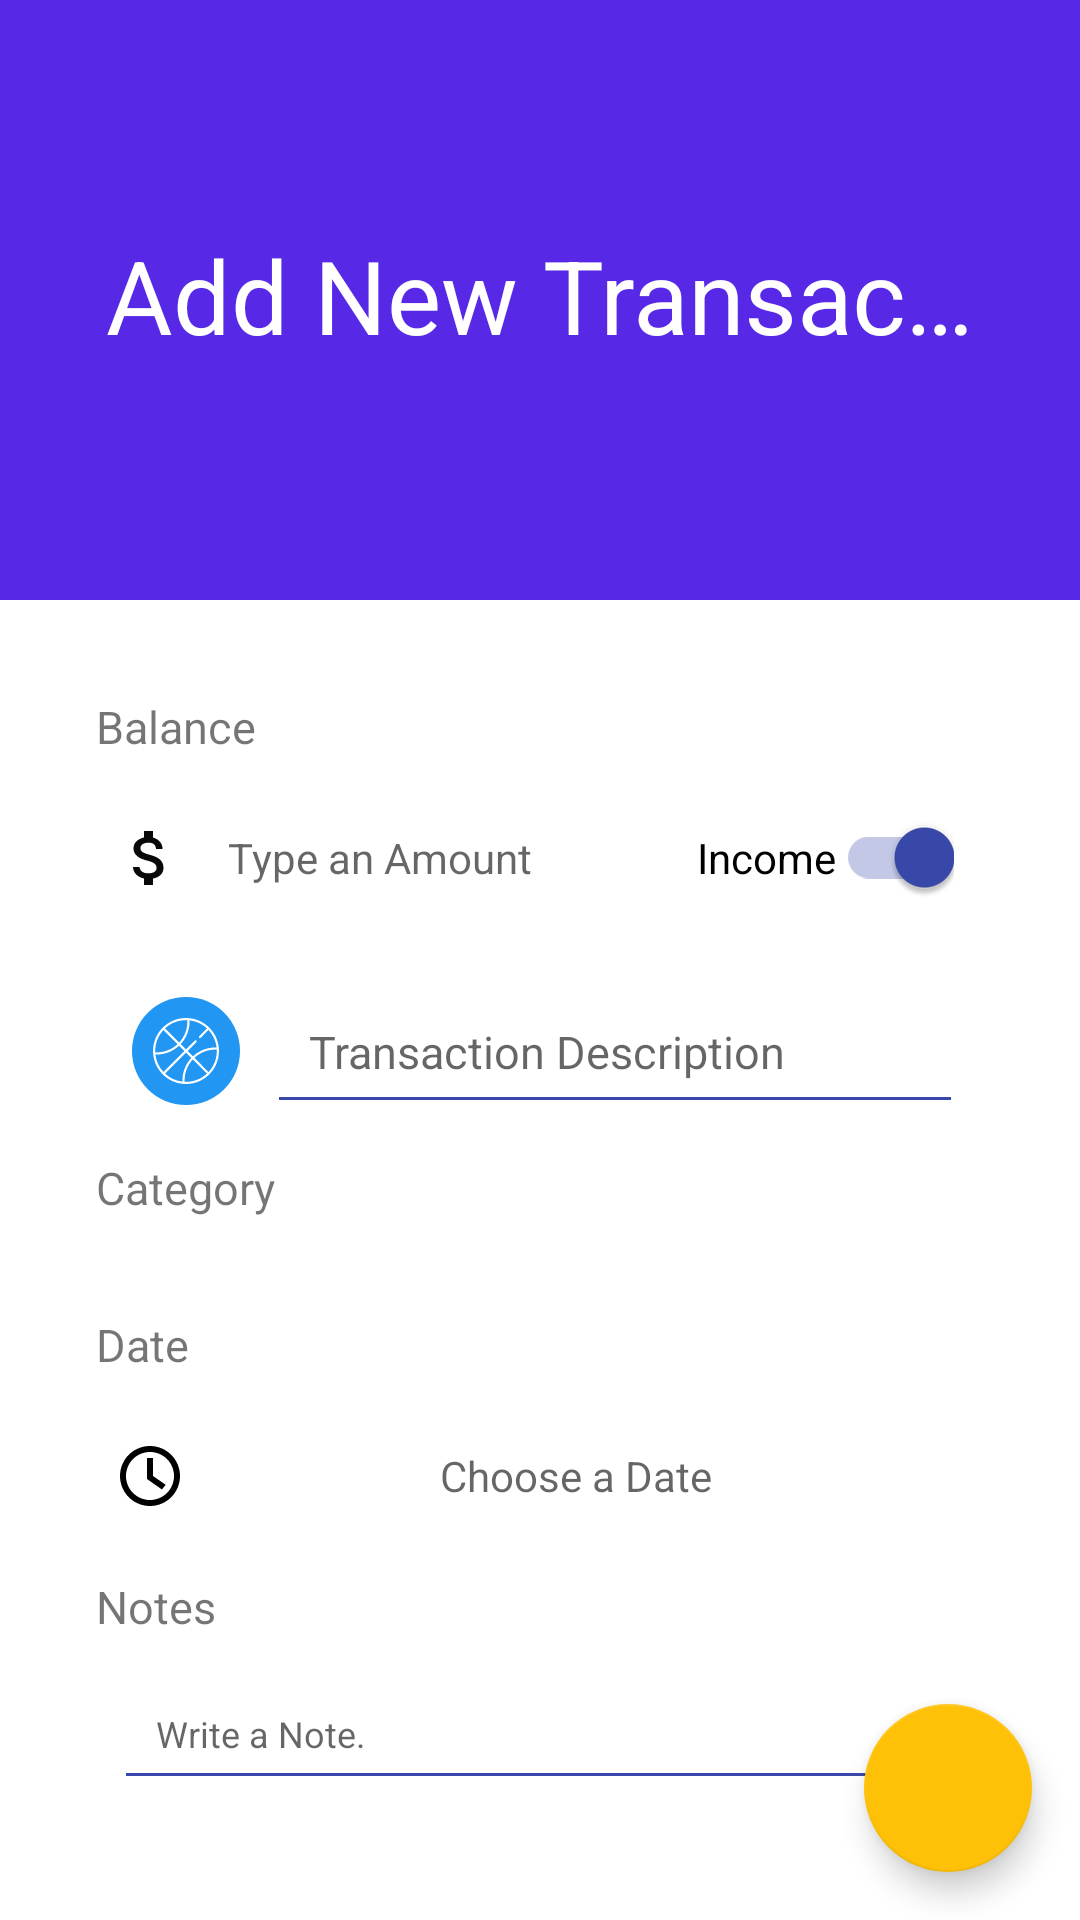

Named icons in this screenshot (1080 × 1920) and their bounding boxes, (x1, y1, x2, y2):
attach money: (133, 831, 164, 885)
clock: (120, 1446, 180, 1506)
ctg sport: (132, 997, 240, 1105)
